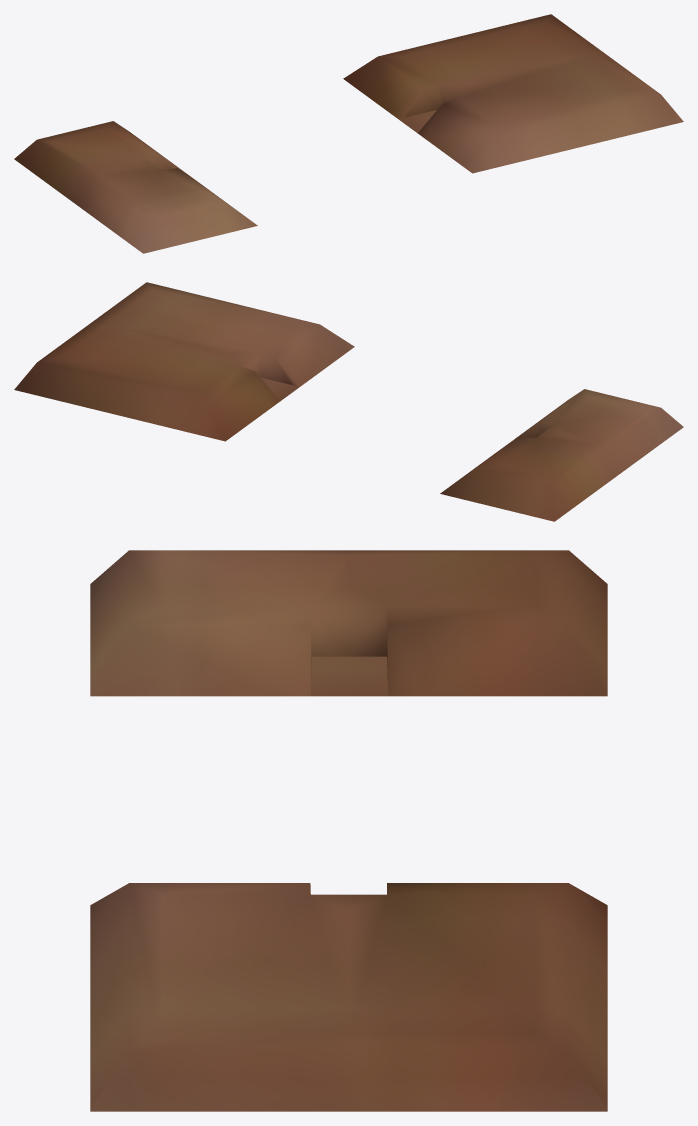
File: WoodBridgeLandOnly.glb
The picture shows the model from 3 angles, top to bottom: view 1: azimuth 30°, elevation 25°; view 2: azimuth 150°, elevation 25°; view 3: azimuth 270°, elevation 25°; orthographic projection. The views are drawn at different scales.
Parts seen in each view (by area): view 1: WoodBridgeLandOnly; view 2: WoodBridgeLandOnly; view 3: WoodBridgeLandOnly.
Part boxes in pixels (x1,y1,x2,y2): WoodBridgeLandOnly: (14,14,683,253); WoodBridgeLandOnly: (14,282,683,521); WoodBridgeLandOnly: (90,550,607,1111).
Size of the model in its own units: 32.03 by 1.44 by 13.28.
1 material, 1 textured.
